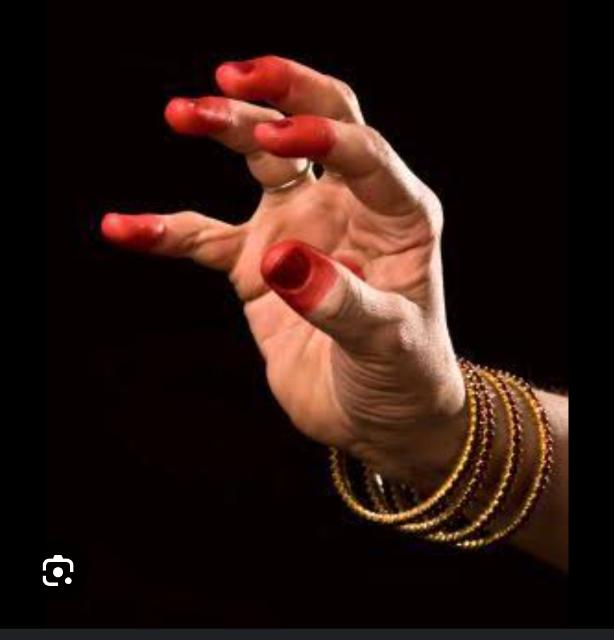padamkosh: (102, 56, 469, 513)
